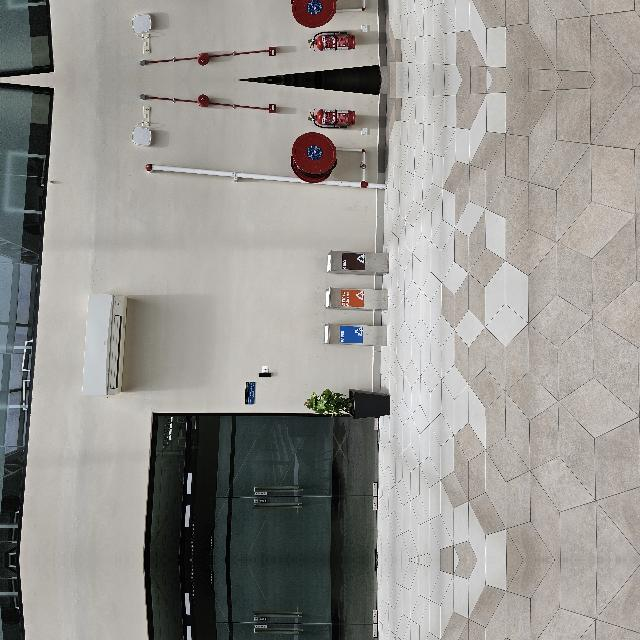door: (0, 225, 140, 459)
obstacle: (372, 367, 452, 453), (143, 386, 169, 470), (284, 402, 310, 468), (214, 400, 236, 468), (250, 405, 272, 471)
